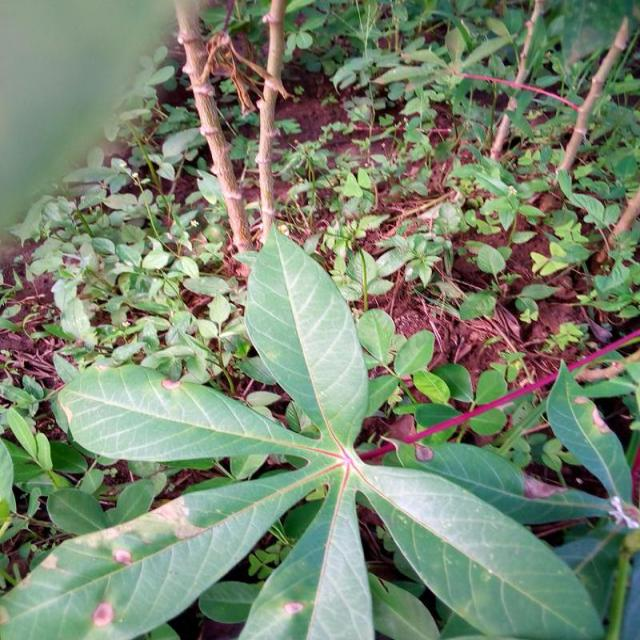cassava leaf: (2, 222, 612, 638), (356, 460, 606, 638), (244, 221, 370, 451)
